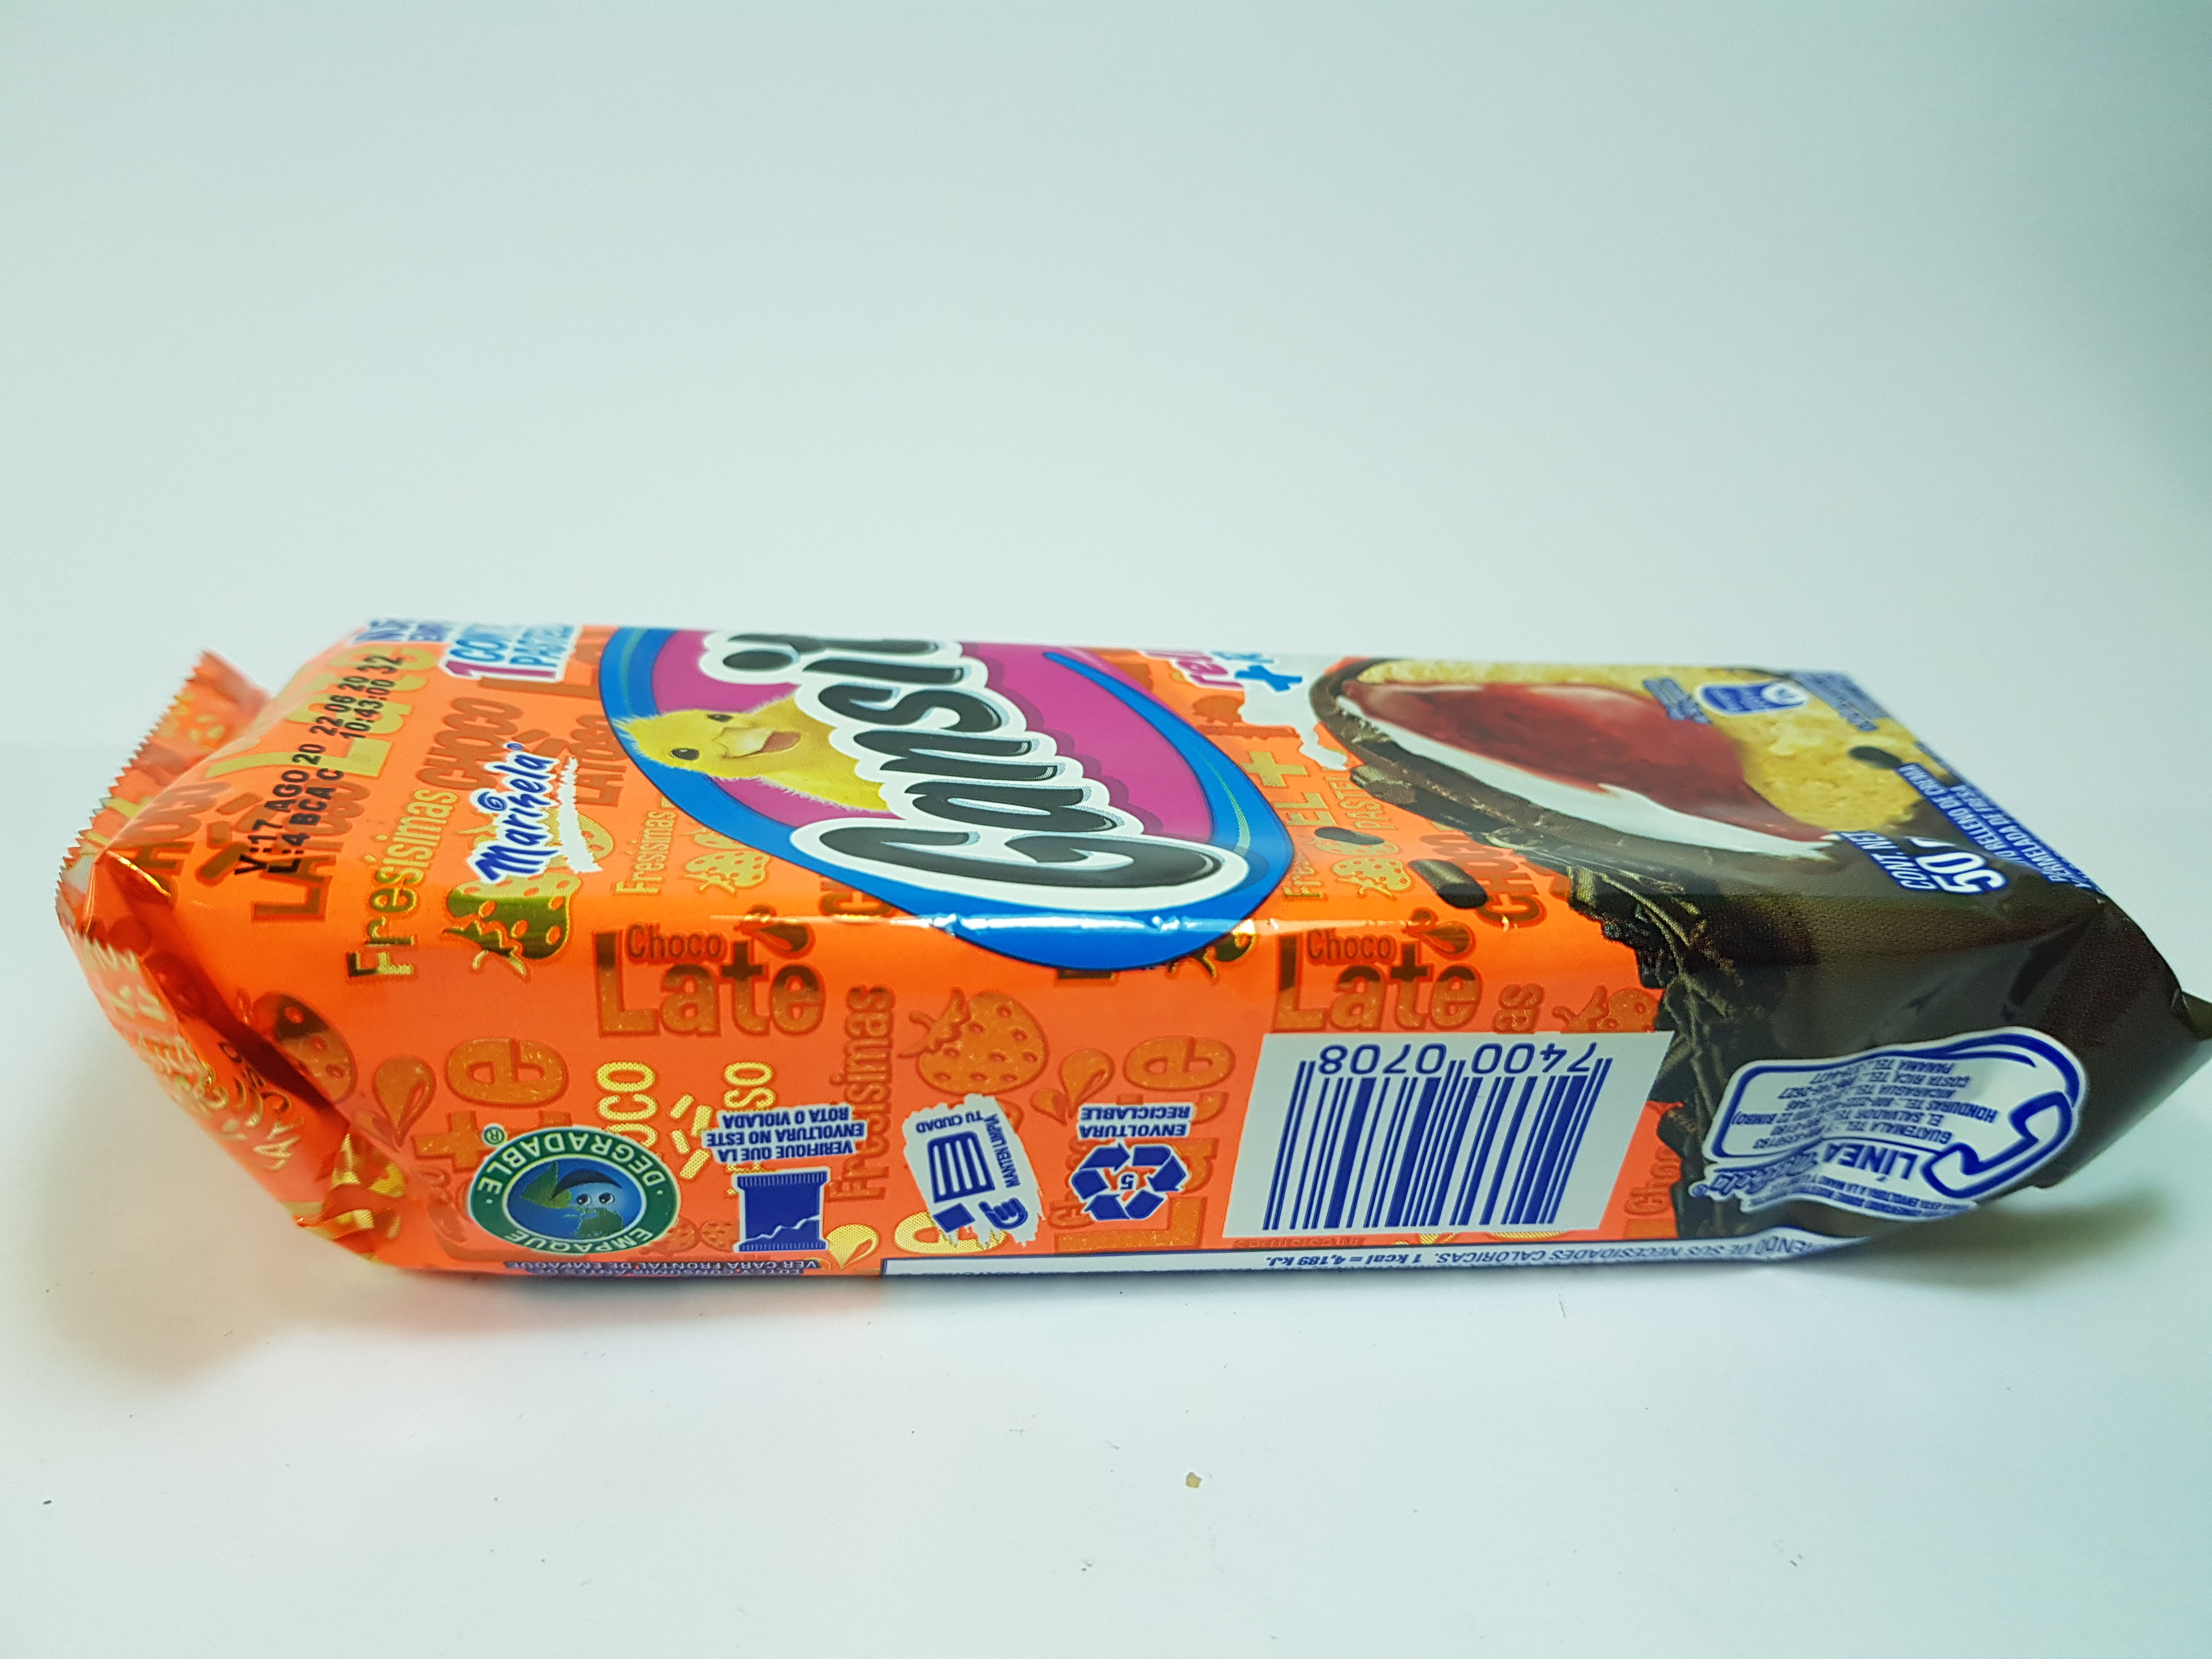gansito: (44, 579, 2212, 1310)
